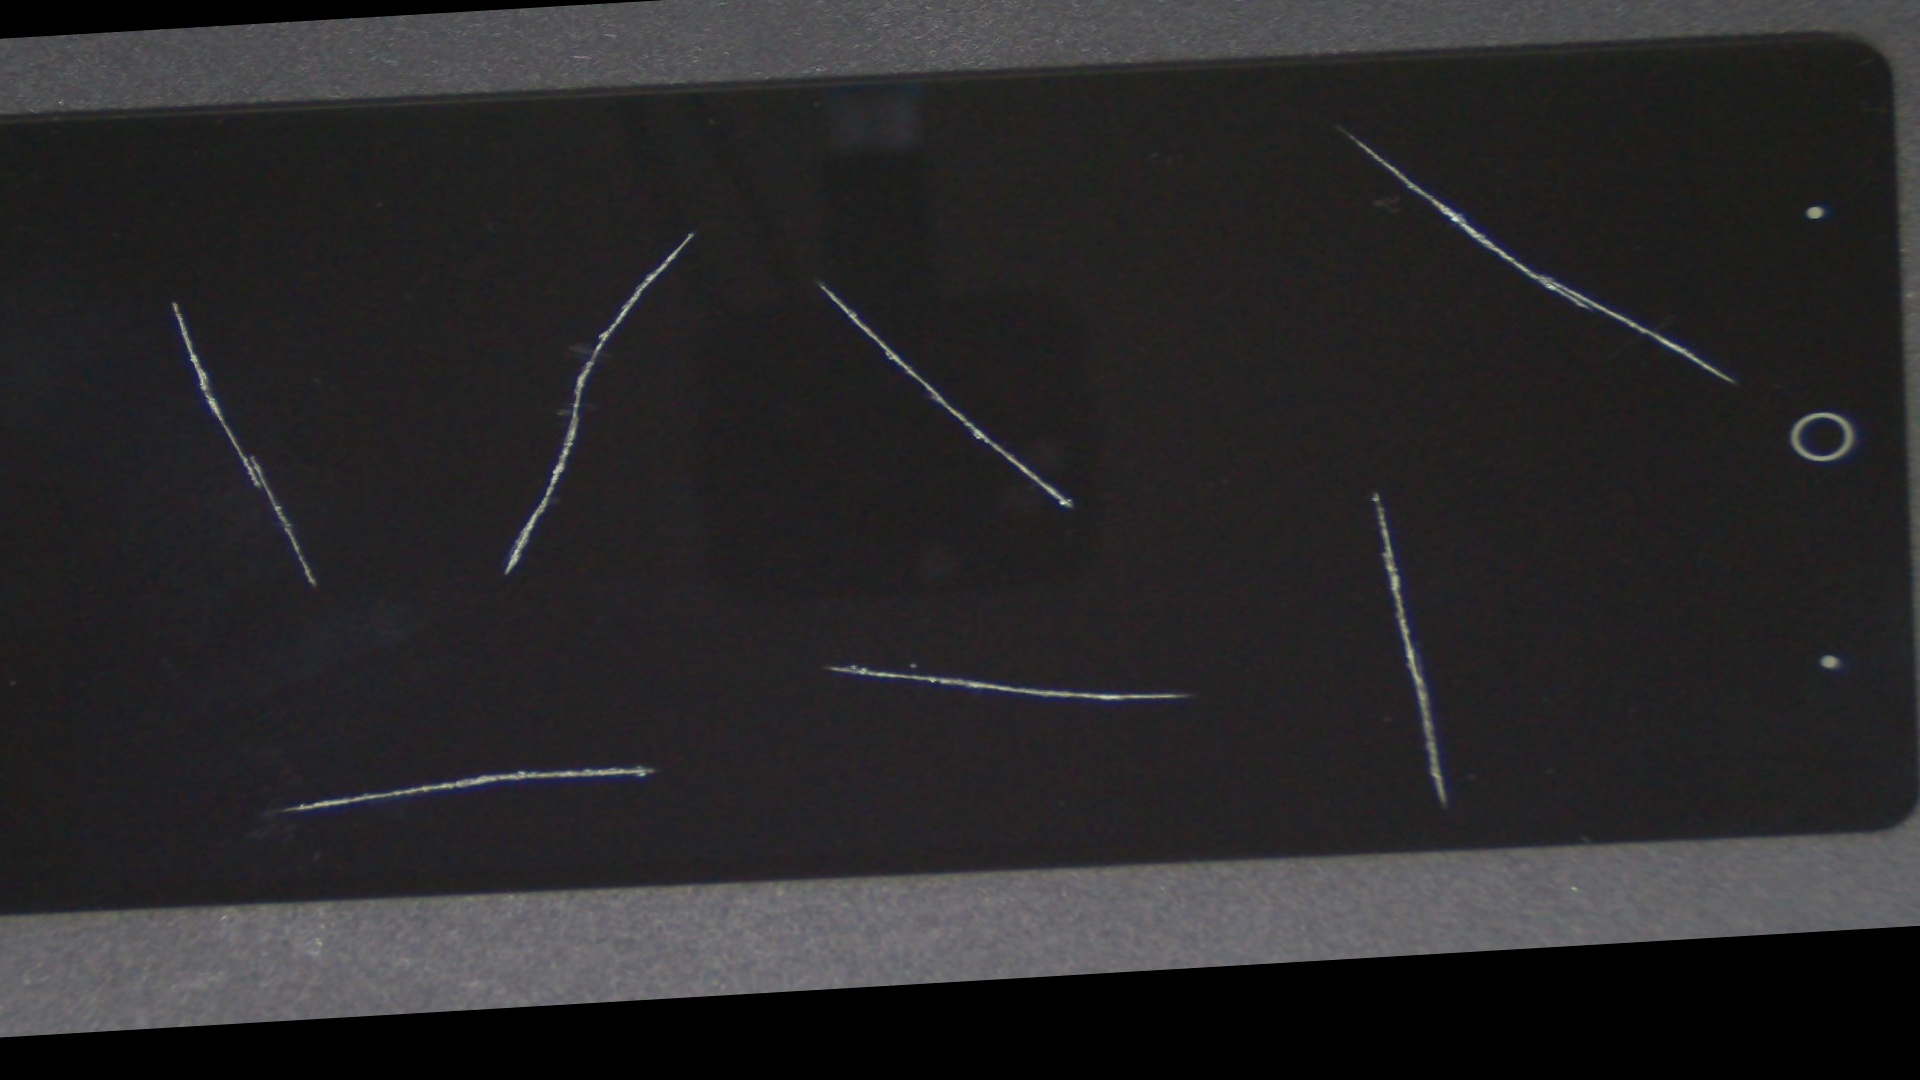oil: (560, 189, 1920, 804), (289, 298, 1362, 1018), (137, 368, 899, 1027), (284, 104, 1349, 459), (549, 9, 1920, 261), (219, 88, 1155, 376), (0, 152, 385, 447)
